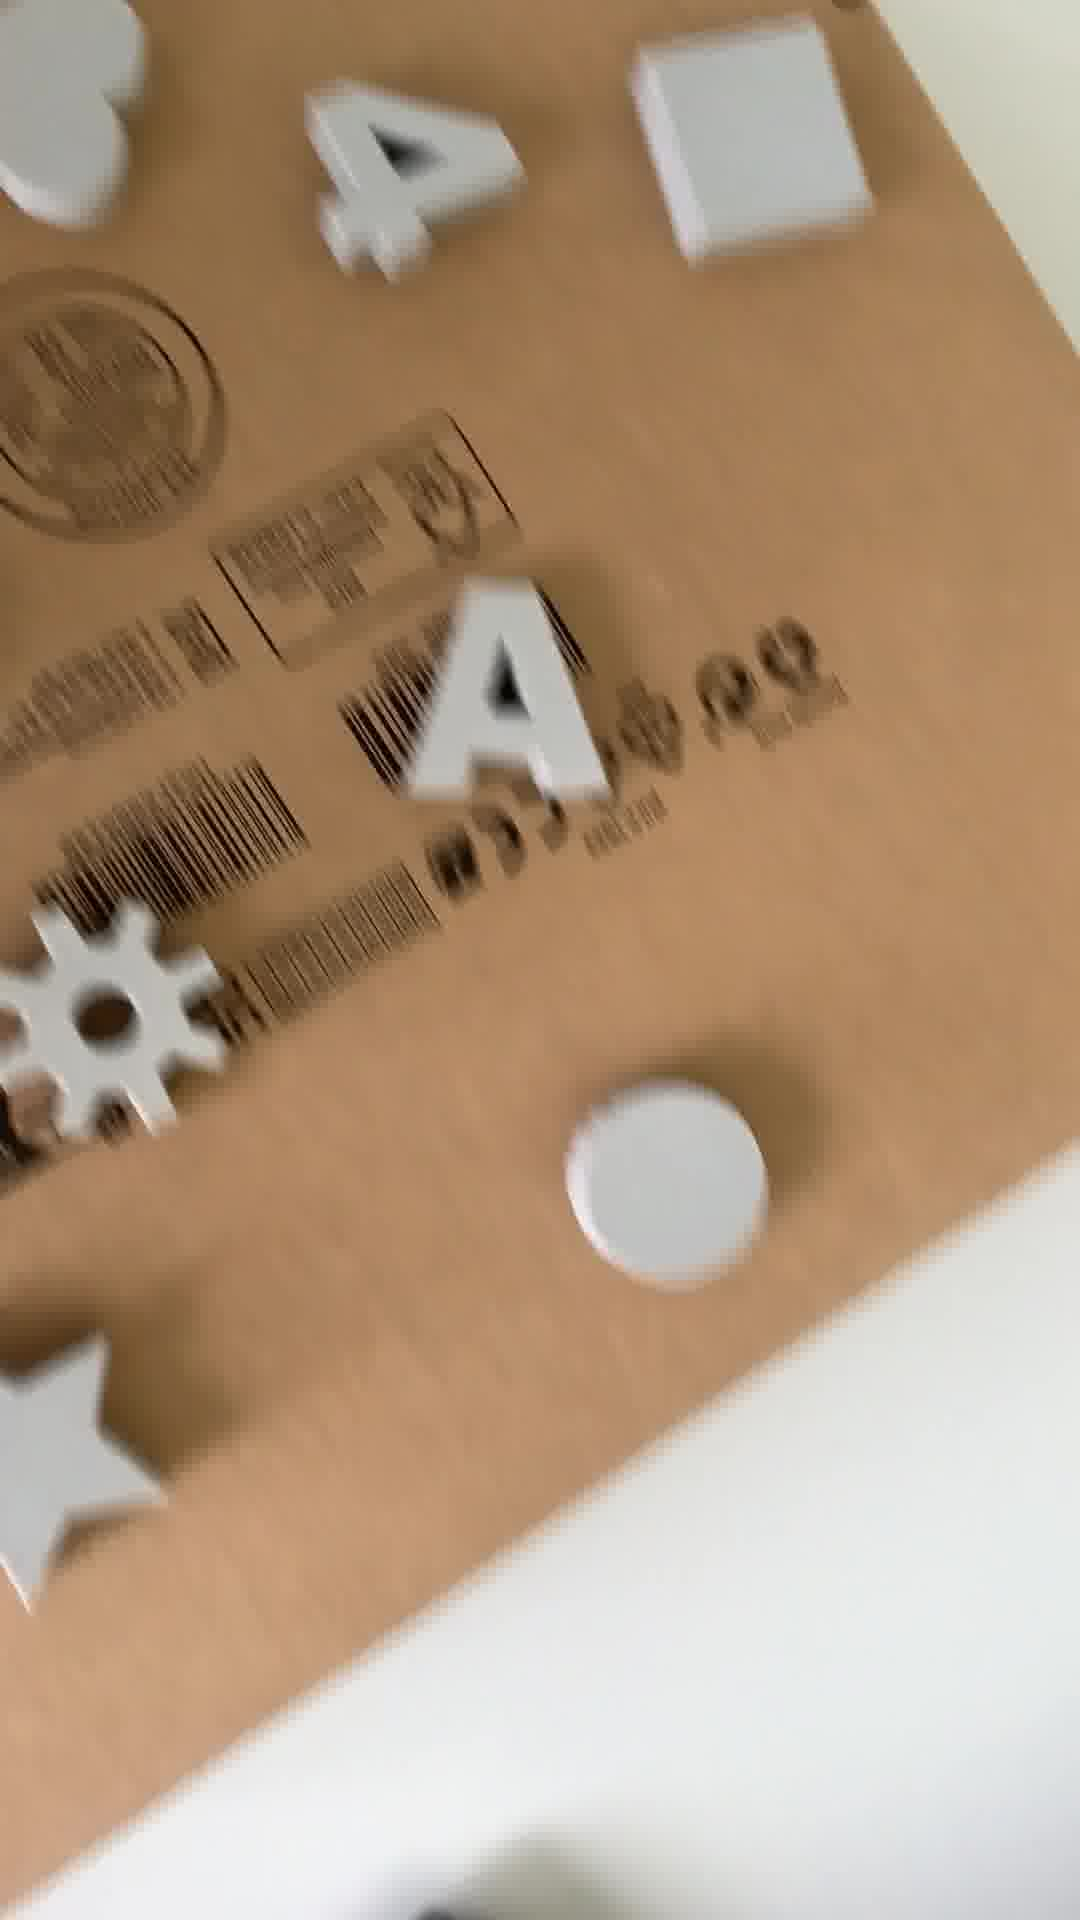Gray A-letter: (398, 559, 613, 816)
Gray circle: (560, 1062, 762, 1287)
Gray four: (294, 84, 527, 291)
Gray gear: (1, 899, 235, 1134)
Gray heart: (1, 1, 170, 262)
Gray square: (600, 38, 906, 240)
Gray star: (1, 1327, 171, 1615)
